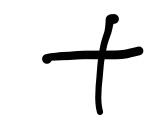plus: (42, 14, 143, 115)
